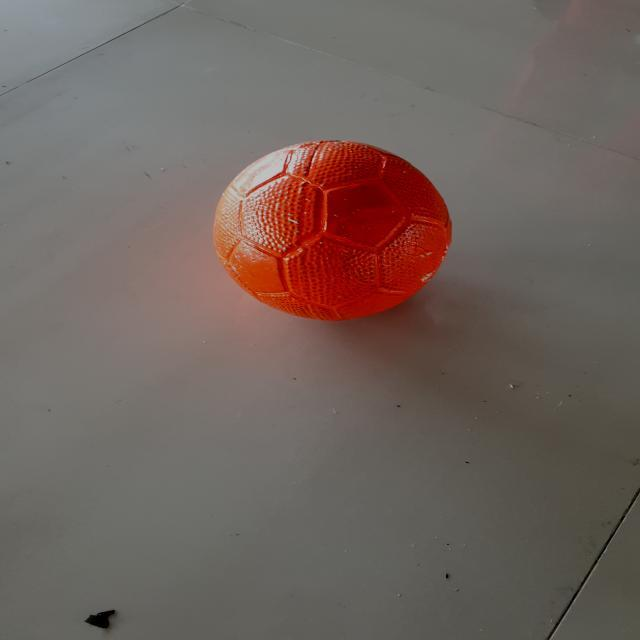bola: (206, 135, 460, 329)
